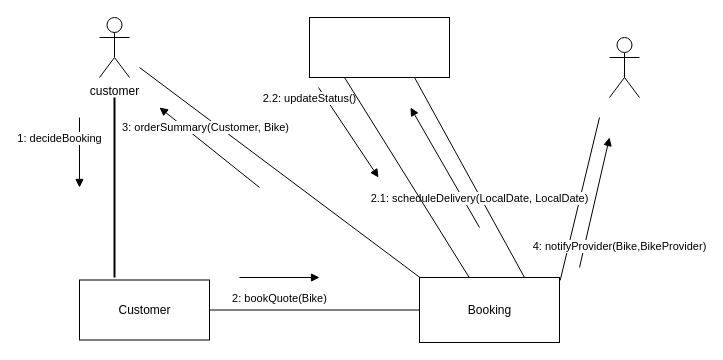
Some shapes in this 723 by 360 pixel diagram are drawn without their labels. Here are the shapes that lost their labels. From the top down, the box of each, then its label:
(308, 16, 450, 78): DeliveryService
(608, 36, 640, 98): provider
